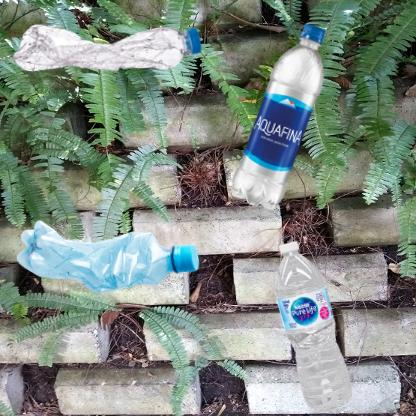botella: (213, 10, 386, 269), (213, 213, 416, 416), (10, 213, 213, 304), (10, 10, 206, 76)
